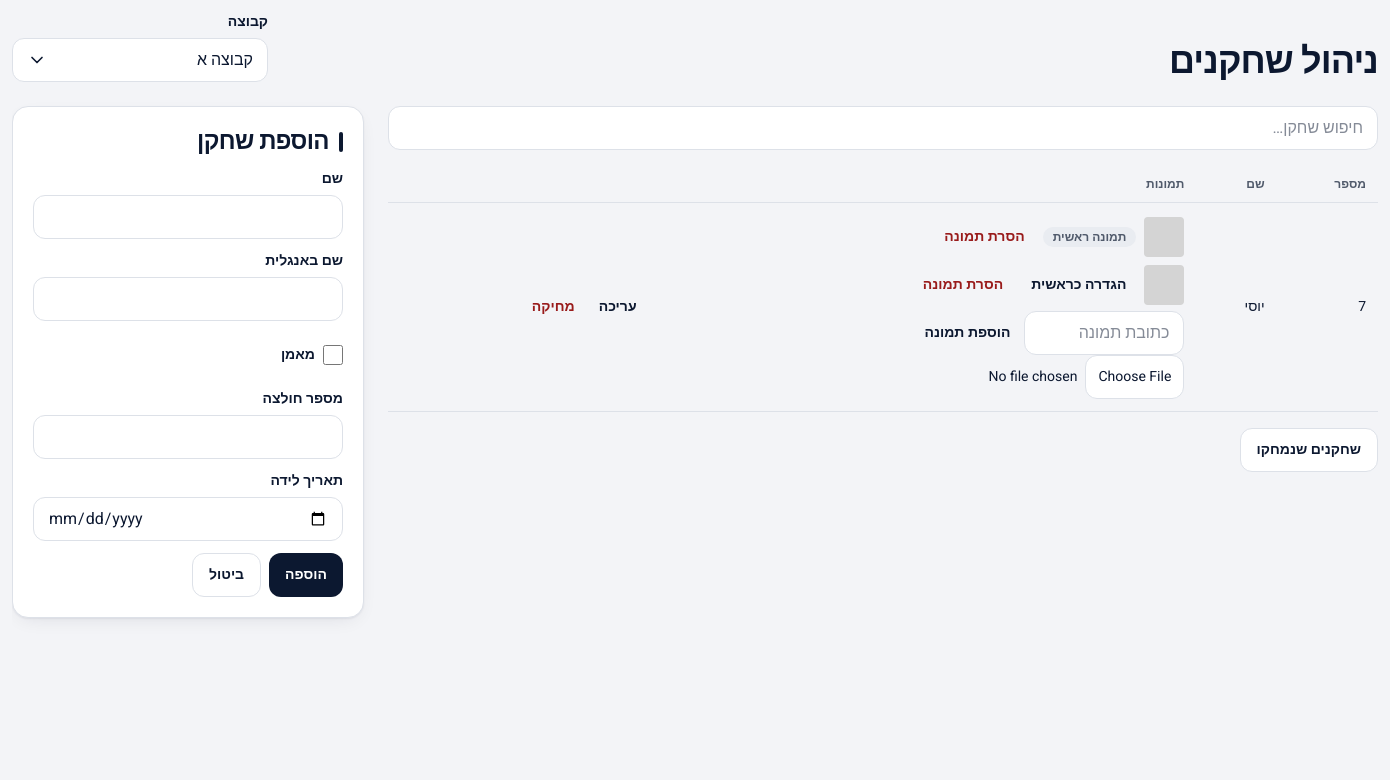
Test: AdminPlayersView › a failed set-main shows an error and keeps the order (#557)
Click the button with aria-label "הגדרה כתמונה ראשית — יוסי". click: (1079, 285)
box: [1021,263,1136,307]
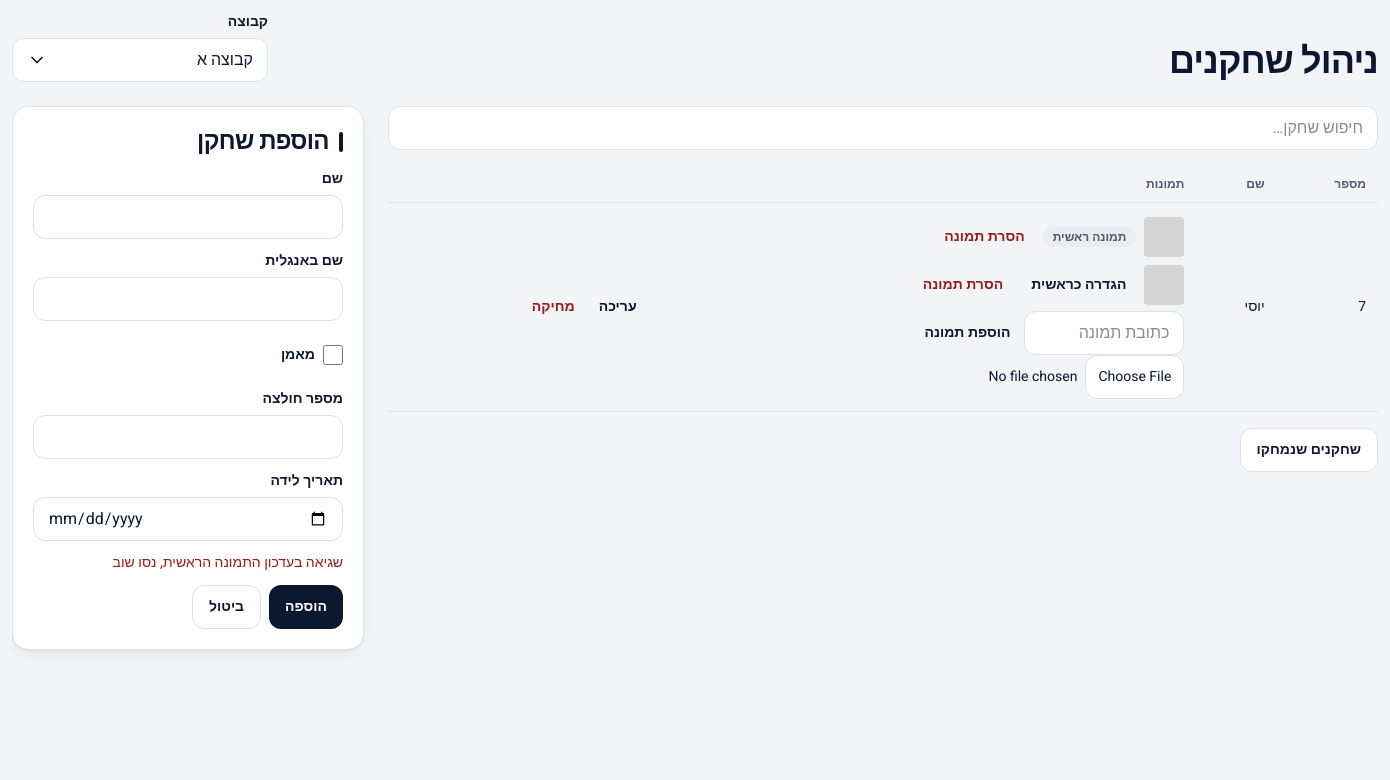
Check: the text "שגיאה בעדכון התמונה הראשית, נסו שוב" is shown, box [112,552,343,573]
